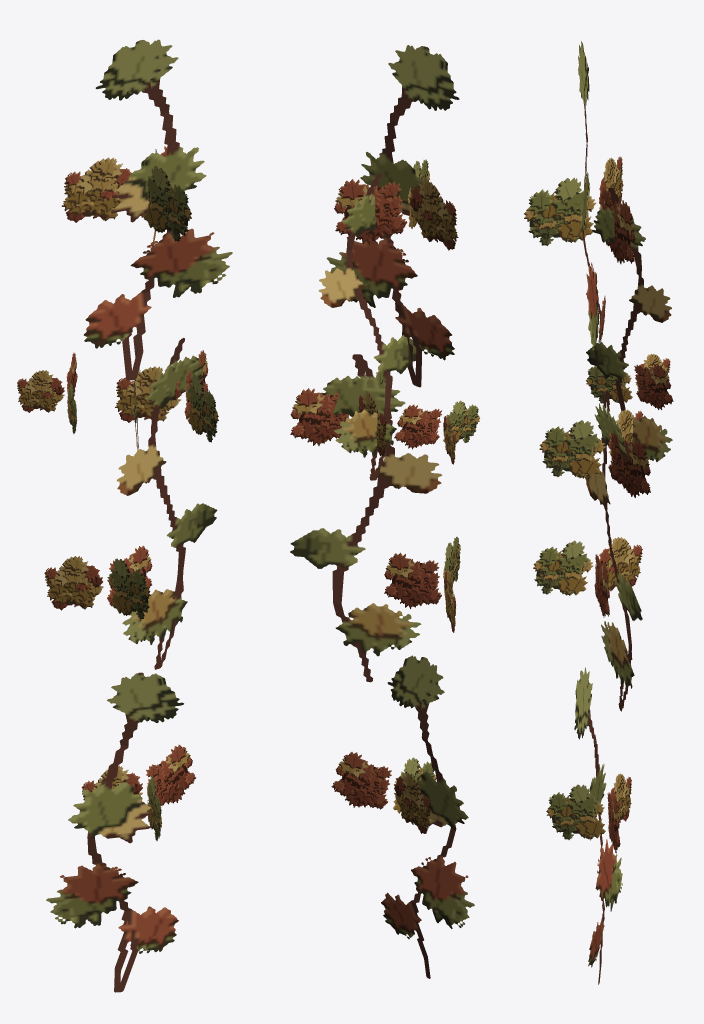
File: SM_VG14_IvyLong.fbx
The picture shows the model from 3 angles, left to right: view 1: azimuth 30°, elevation 25°; view 2: azimuth 150°, elevation 25°; view 3: azimuth 270°, elevation 25°; orthographic projection. The views are drawn at different scales.
Parts seen in each view (by area): view 1: VG14_Ivy; view 2: VG14_Ivy; view 3: VG14_Ivy.
Boxes of the visible parts, x1,y1,x2,y2 form: VG14_Ivy: (17,39,232,992); VG14_Ivy: (290,45,479,978); VG14_Ivy: (524,41,673,984).
Bounding box in the file's own units: 0.5274 × 2.41 × 0.3838.
